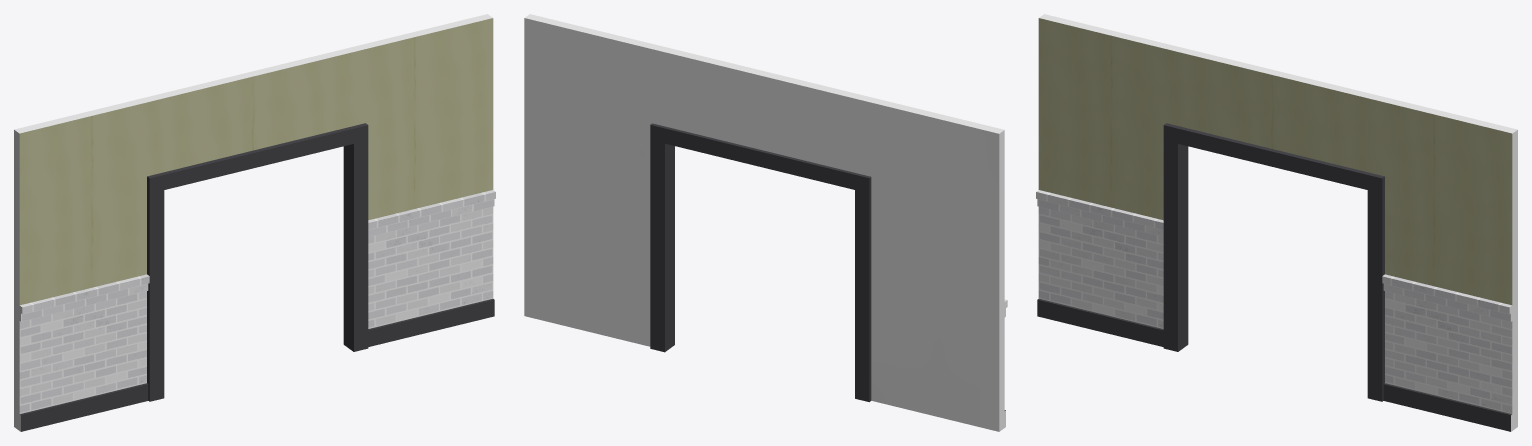
Rendered from SM_Buildings_WallDoorDouble_5x3_01.fbx.
3 renders of one model, left to right at view 1: azimuth 30°, elevation 25°; view 2: azimuth 150°, elevation 25°; view 3: azimuth 330°, elevation 25°, orthographic.
Visible parts, largest first — view 1: SM_Buildings_WallDoorDouble_5x3_01; view 2: SM_Buildings_WallDoorDouble_5x3_01; view 3: SM_Buildings_WallDoorDouble_5x3_01.
Part boxes in pixels (box(x1,y1,x2,y2)): SM_Buildings_WallDoorDouble_5x3_01: box(14, 14, 495, 431); SM_Buildings_WallDoorDouble_5x3_01: box(524, 14, 1007, 431); SM_Buildings_WallDoorDouble_5x3_01: box(1036, 14, 1517, 431).
Bounding box in the file's own units: 500 × 300 × 18.64.
1 material, 1 textured.
